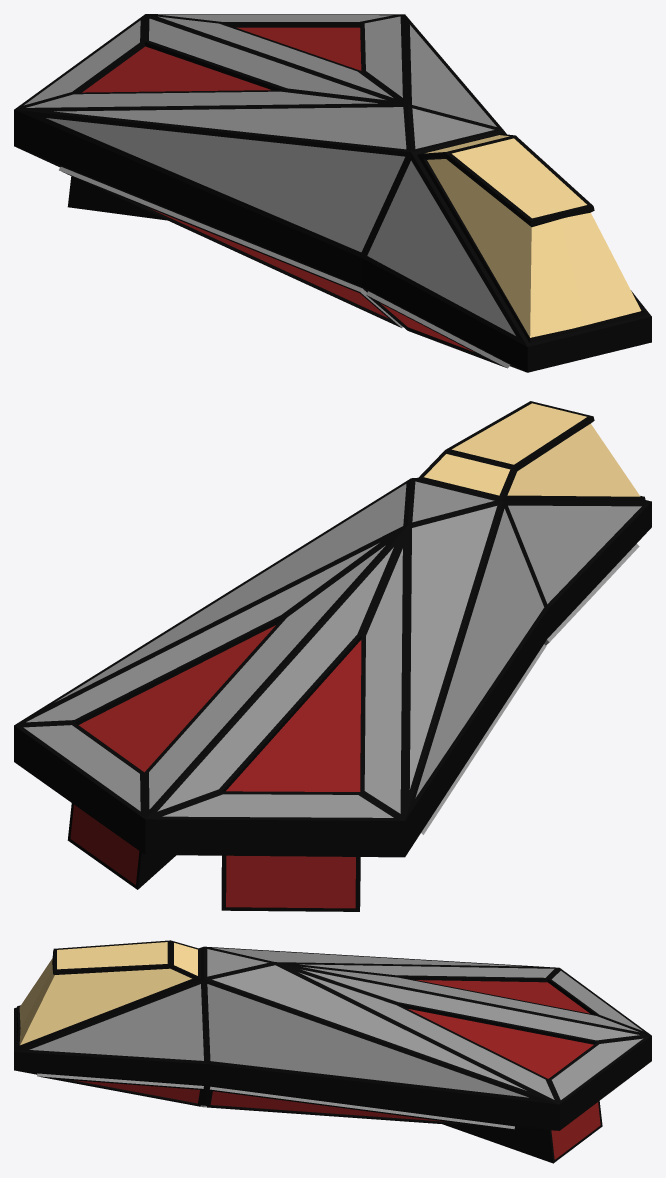
The model's file is Vehacle 1.FBX.
3 views of the same model, one above another, from view 1: azimuth 30°, elevation 25°; view 2: azimuth 150°, elevation 25°; view 3: azimuth 270°, elevation 25° (orthographic). The views are drawn at different scales.
Visible parts, largest first — view 1: Box006; view 2: Box006; view 3: Box006.
Boxes of the visible parts, bbox=[...] form: Box006: bbox=[14, 14, 651, 372]; Box006: bbox=[14, 401, 651, 911]; Box006: bbox=[14, 940, 651, 1163].
Bounding box in the file's own units: 39.37 × 21.42 × 77.51.
